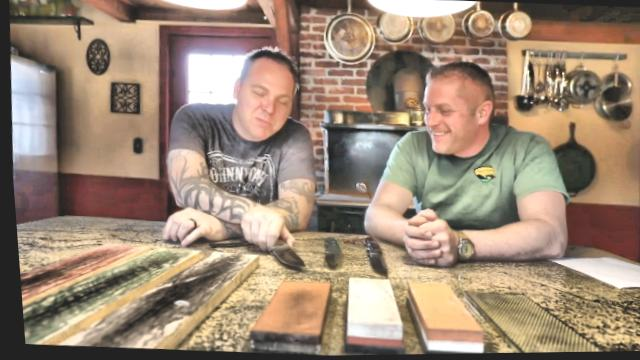knife: (241, 213, 313, 277)
